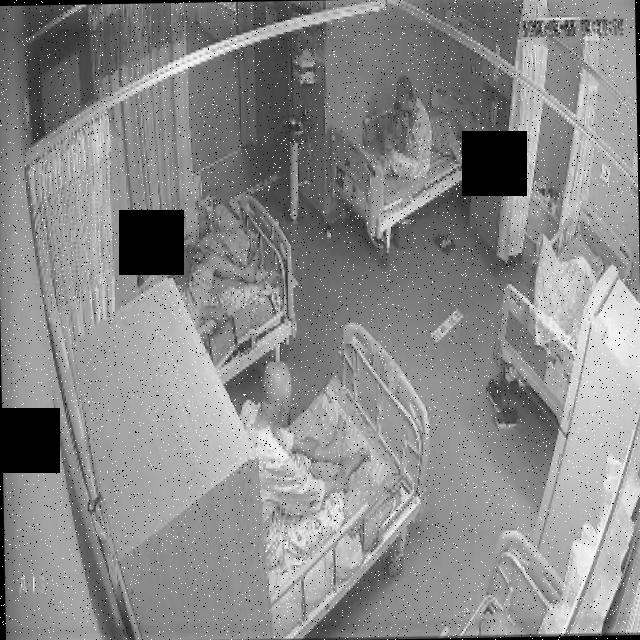bed: (254, 322, 433, 640), (492, 201, 638, 426), (168, 196, 296, 389), (328, 82, 472, 238)
lie: (134, 227, 280, 332)
patient: (236, 350, 371, 568), (133, 224, 281, 334), (377, 75, 433, 187)
sit: (238, 348, 370, 566), (378, 75, 432, 187)
